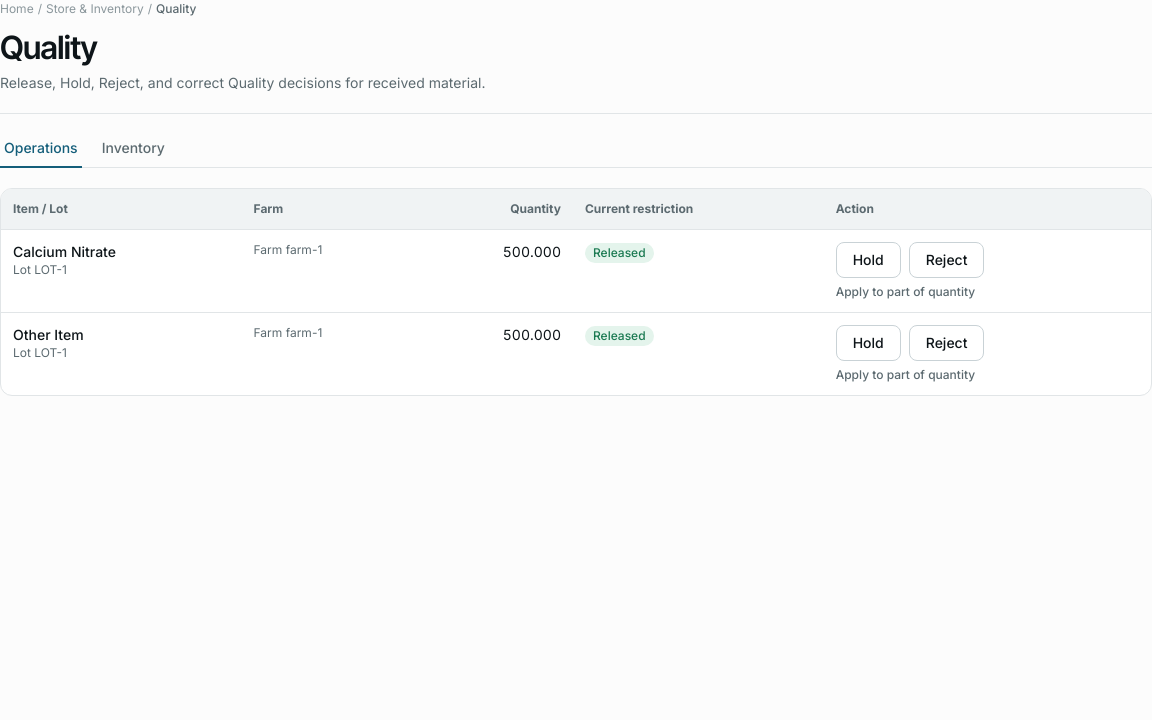
Test: StoreInventoryQualityPage › A2: opening a new Quality action is disabled while another command's outcome is uncertain
This screenshot has width=1152, height=720.
Check: the text "Calcium Nitrate" is shown, box x1=13 y1=243 x2=116 y2=260
What coordinates should you click on to do the following:
click the button "Hold" in the row of "Calcium Nitrate"
I would click on:
 (868, 260)
Its box is x1=836 y1=242 x2=901 y2=278.
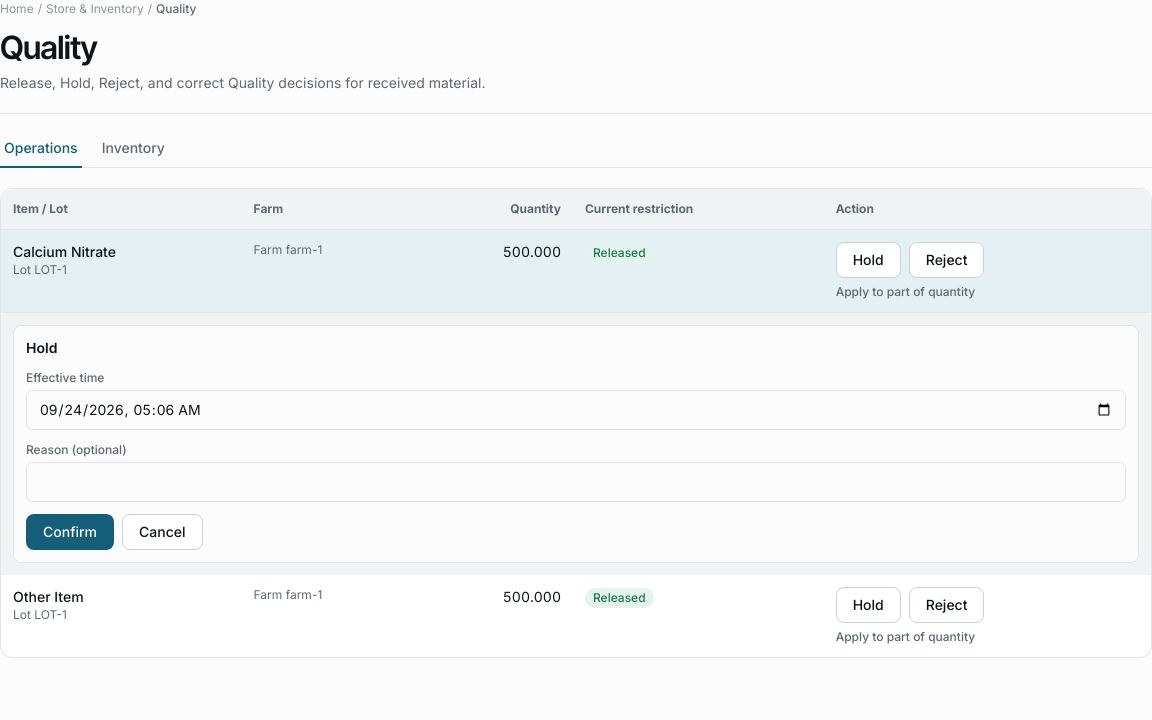
Check: the button "Confirm" is shown
What coordinates should you click on to do the following:
click the button "Confirm"
I would click on:
 (70, 532)
Its box is x1=26 y1=514 x2=114 y2=550.
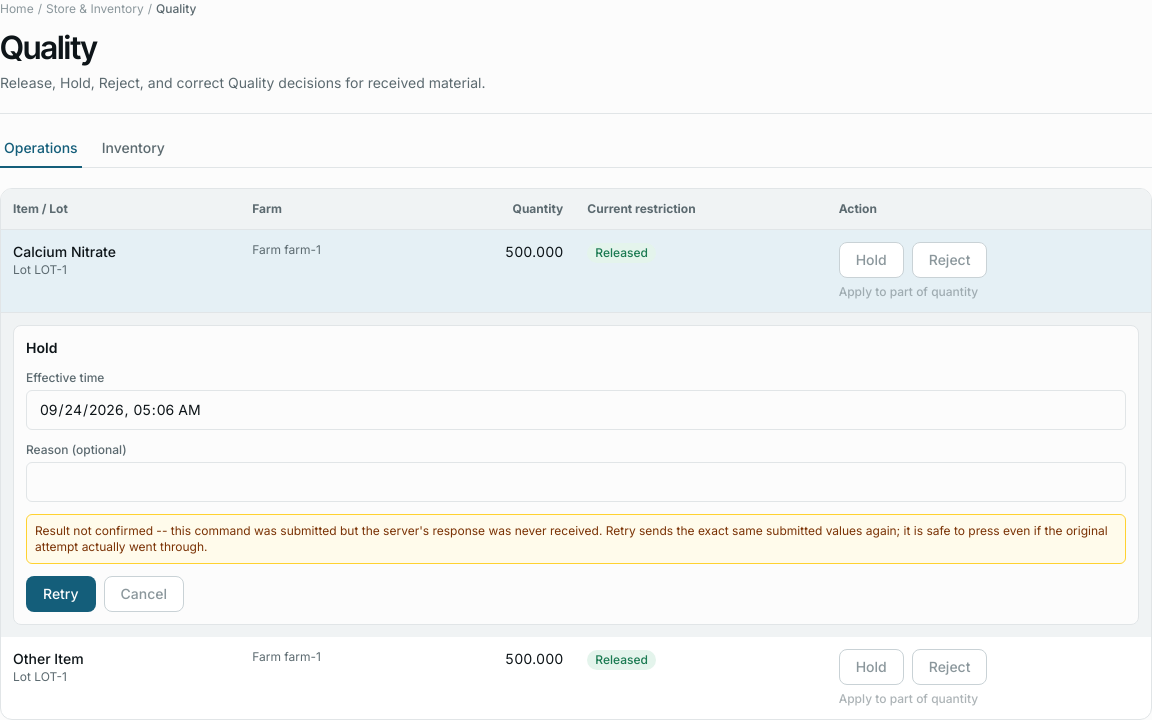
Check: the button "Retry" is shown, box x1=26 y1=576 x2=96 y2=612
Check: the button "Hold" in the row of "Other Item" is disabled, box x1=839 y1=649 x2=904 y2=685
